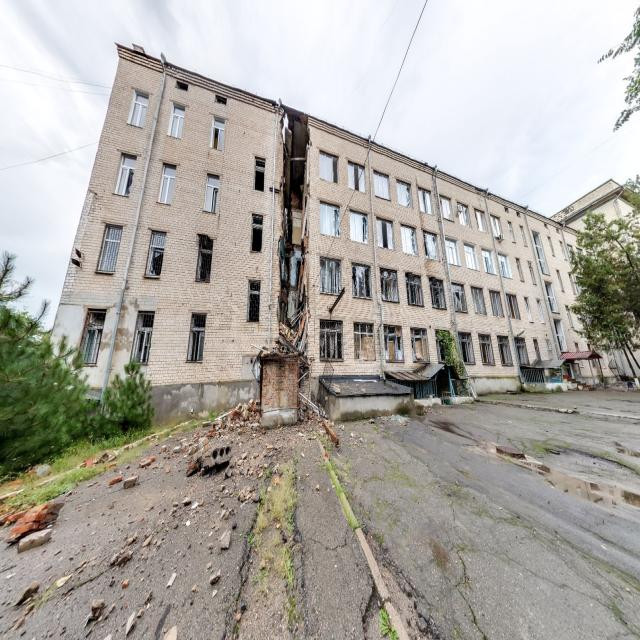broken_window: (80, 309, 106, 366), (96, 223, 123, 274), (130, 310, 154, 365), (144, 229, 166, 278), (114, 152, 137, 198), (318, 318, 342, 362), (186, 311, 206, 363), (195, 233, 213, 283), (319, 256, 341, 295), (351, 262, 372, 300), (158, 162, 176, 205), (247, 278, 260, 322), (250, 212, 263, 252)
building: (46, 41, 636, 424)
